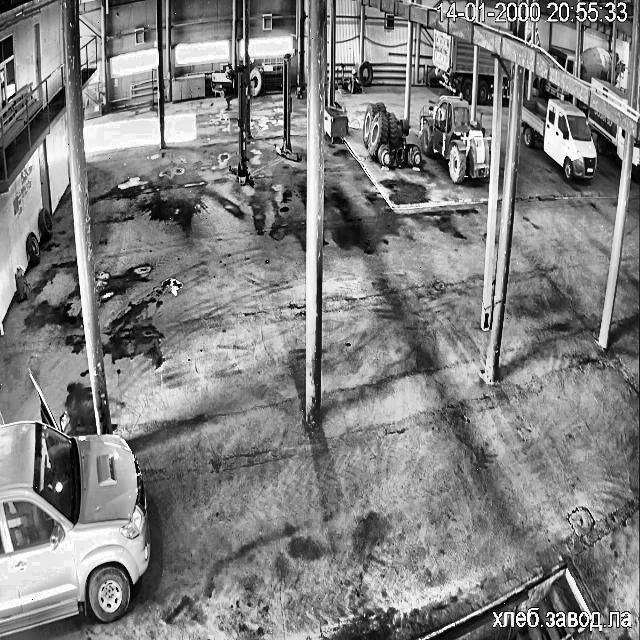car: (0, 374, 150, 636)
car lift: (229, 66, 253, 186), (275, 52, 297, 161)
fire extinguisher: (14, 268, 26, 300)
tractor: (420, 94, 489, 182), (362, 102, 420, 166)
truck: (521, 100, 596, 180), (432, 28, 472, 100), (588, 108, 624, 158), (580, 46, 610, 82), (476, 48, 494, 103), (592, 78, 628, 103), (537, 77, 572, 99), (548, 45, 574, 73), (632, 140, 640, 179), (500, 77, 508, 97), (504, 60, 510, 75), (616, 60, 620, 76)
